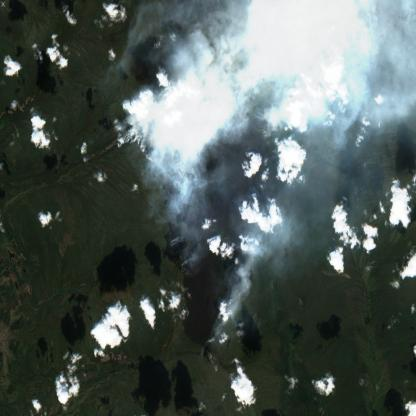fire: (195, 269, 255, 360), (244, 92, 308, 151), (113, 117, 166, 169), (164, 223, 202, 275)
